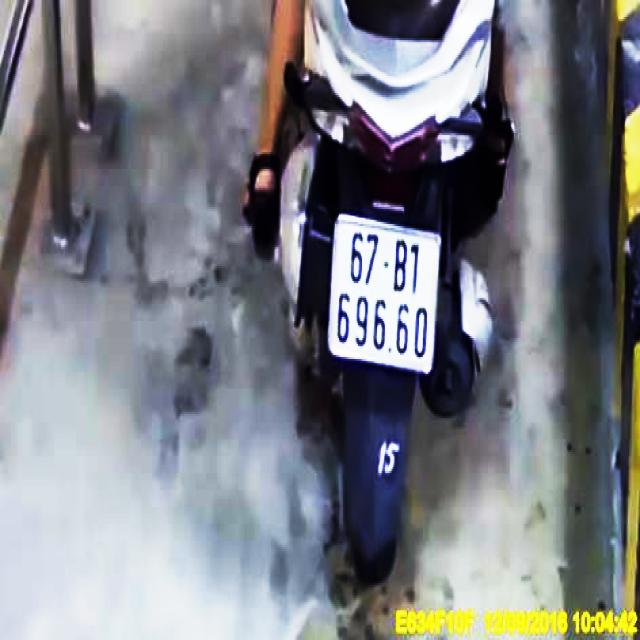license_plate: (332, 214, 440, 375)
